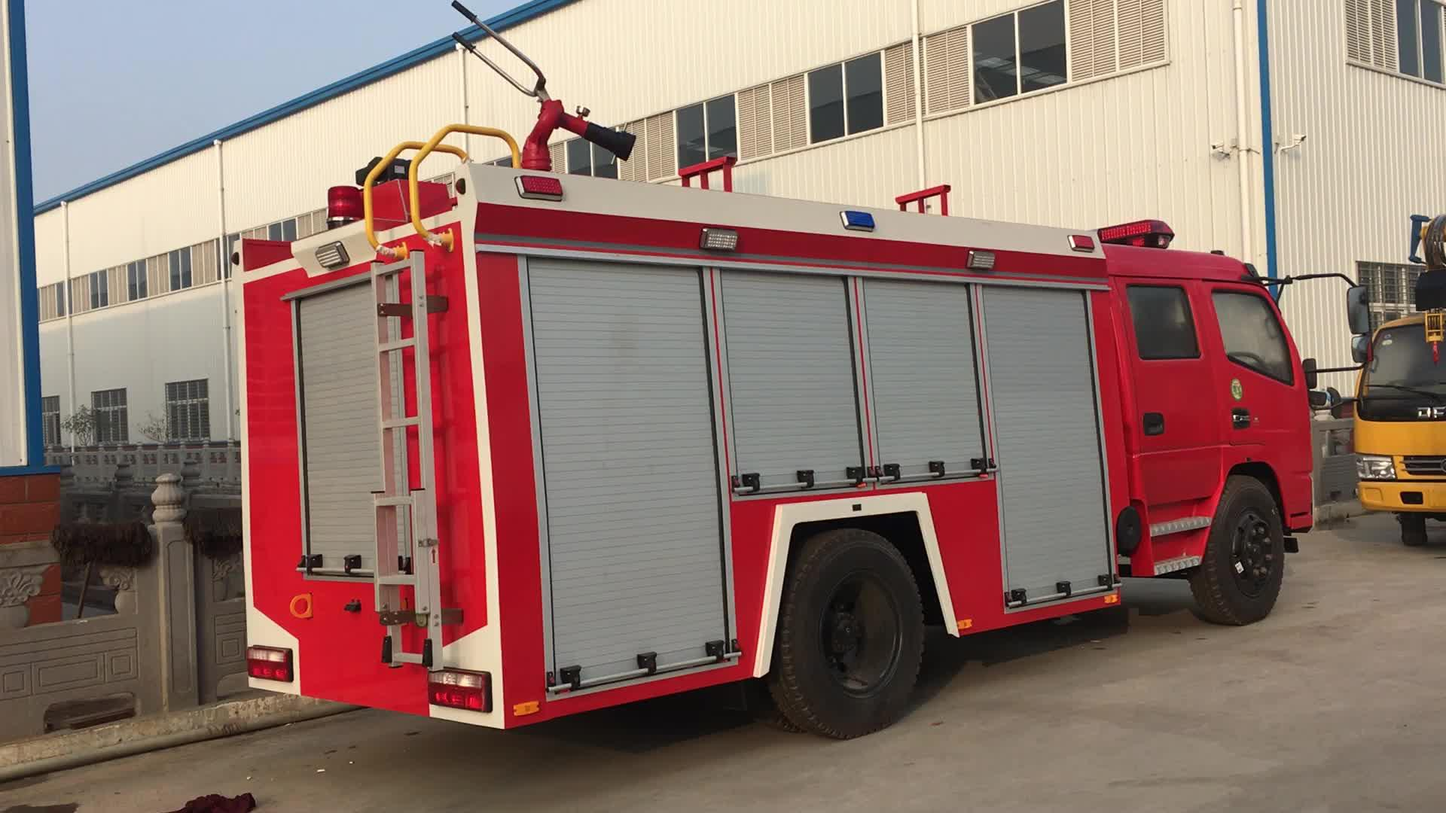Fire-engine: (229, 2, 1369, 742)
